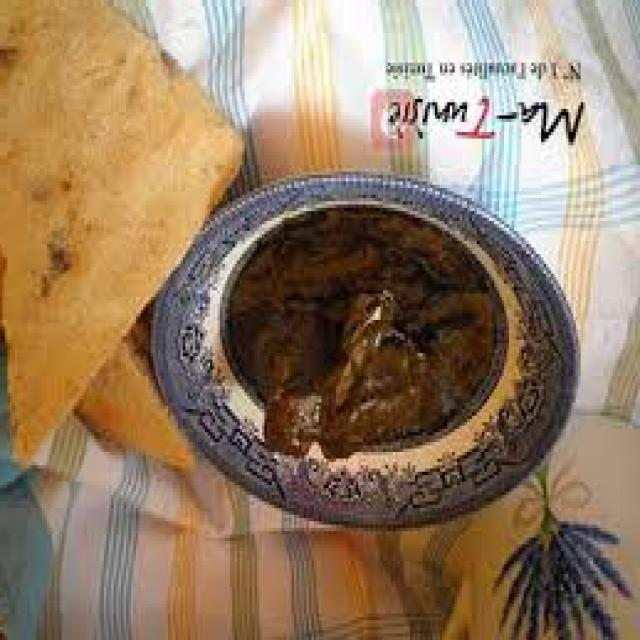Melloukhia: (152, 194, 558, 519)
